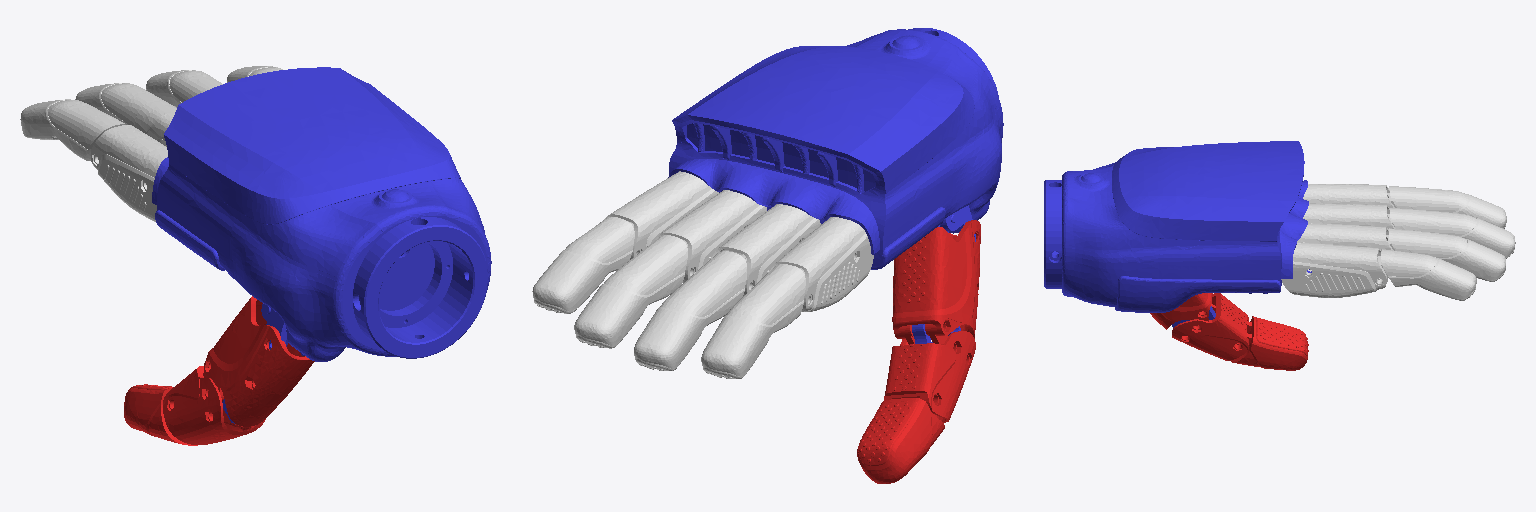
URDF robot description (inspire_hand_right):
<?xml version="1.0" ?>
<robot name="inspire_hand_right">
  <link name="base_link">
    <visual>
      <origin xyz="0.000000 0.000000 0.000000" rpy="0 0 0"/>
      <geometry>
        <mesh filename="package://inspire_hand_description/meshes/right/part_032.stl"/>
      </geometry>
      <material name="">
        <color rgba="0.3 0.3 0.9 1"/>
      </material>
    </visual>
    <visual>
      <origin xyz="0.000000 0.000000 0.000000" rpy="0 0 0"/>
      <geometry>
        <mesh filename="package://inspire_hand_description/meshes/right/part_050.stl"/>
      </geometry>
      <material name="">
        <color rgba="0.3 0.3 0.9 1"/>
      </material>
    </visual>
    <visual>
      <origin xyz="0.000000 0.000000 0.000000" rpy="0 0 0"/>
      <geometry>
        <mesh filename="package://inspire_hand_description/meshes/right/part_000.stl"/>
      </geometry>
      <material name="">
        <color rgba="0.3 0.3 0.9 1"/>
      </material>
    </visual>
    <visual>
      <origin xyz="0.000000 0.000000 0.000000" rpy="0 0 0"/>
      <geometry>
        <mesh filename="package://inspire_hand_description/meshes/right/part_002.stl"/>
      </geometry>
      <material name="">
        <color rgba="0.3 0.3 0.9 1"/>
      </material>
    </visual>
    <visual>
      <origin xyz="0.000000 0.000000 0.000000" rpy="0 0 0"/>
      <geometry>
        <mesh filename="package://inspire_hand_description/meshes/right/part_003.stl"/>
      </geometry>
      <material name="">
        <color rgba="0.3 0.3 0.9 1"/>
      </material>
    </visual>
    <visual>
      <origin xyz="0.000000 0.000000 0.000000" rpy="0 0 0"/>
      <geometry>
        <mesh filename="package://inspire_hand_description/meshes/right/part_005.stl"/>
      </geometry>
      <material name="">
        <color rgba="0.3 0.3 0.9 1"/>
      </material>
    </visual>
    <visual>
      <origin xyz="0.000000 0.000000 0.000000" rpy="0 0 0"/>
      <geometry>
        <mesh filename="package://inspire_hand_description/meshes/right/part_006.stl"/>
      </geometry>
      <material name="">
        <color rgba="0.3 0.3 0.9 1"/>
      </material>
    </visual>
    <visual>
      <origin xyz="0.000000 0.000000 0.000000" rpy="0 0 0"/>
      <geometry>
        <mesh filename="package://inspire_hand_description/meshes/right/part_008.stl"/>
      </geometry>
      <material name="">
        <color rgba="0.3 0.3 0.9 1"/>
      </material>
    </visual>
    <visual>
      <origin xyz="0.000000 0.000000 0.000000" rpy="0 0 0"/>
      <geometry>
        <mesh filename="package://inspire_hand_description/meshes/right/part_009.stl"/>
      </geometry>
      <material name="">
        <color rgba="0.3 0.3 0.9 1"/>
      </material>
    </visual>
    <visual>
      <origin xyz="0.000000 0.000000 0.000000" rpy="0 0 0"/>
      <geometry>
        <mesh filename="package://inspire_hand_description/meshes/right/part_011.stl"/>
      </geometry>
      <material name="">
        <color rgba="0.3 0.3 0.9 1"/>
      </material>
    </visual>
    <visual>
      <origin xyz="0.000000 0.000000 0.000000" rpy="0 0 0"/>
      <geometry>
        <mesh filename="package://inspire_hand_description/meshes/right/part_023.stl"/>
      </geometry>
      <material name="">
        <color rgba="0.3 0.3 0.9 1"/>
      </material>
    </visual>
    <visual>
      <origin xyz="0.000000 0.000000 0.000000" rpy="0 0 0"/>
      <geometry>
        <mesh filename="package://inspire_hand_description/meshes/right/part_024.stl"/>
      </geometry>
      <material name="">
        <color rgba="0.3 0.3 0.9 1"/>
      </material>
    </visual>
    <visual>
      <origin xyz="0.000000 0.000000 0.000000" rpy="0 0 0"/>
      <geometry>
        <mesh filename="package://inspire_hand_description/meshes/right/part_025.stl"/>
      </geometry>
      <material name="">
        <color rgba="0.3 0.3 0.9 1"/>
      </material>
    </visual>
    <visual>
      <origin xyz="0.000000 0.000000 0.000000" rpy="0 0 0"/>
      <geometry>
        <mesh filename="package://inspire_hand_description/meshes/right/part_026.stl"/>
      </geometry>
      <material name="">
        <color rgba="0.3 0.3 0.9 1"/>
      </material>
    </visual>
    <visual>
      <origin xyz="0.000000 0.000000 0.000000" rpy="0 0 0"/>
      <geometry>
        <mesh filename="package://inspire_hand_description/meshes/right/part_027.stl"/>
      </geometry>
      <material name="">
        <color rgba="0.3 0.3 0.9 1"/>
      </material>
    </visual>
    <visual>
      <origin xyz="0.000000 0.000000 0.000000" rpy="0 0 0"/>
      <geometry>
        <mesh filename="package://inspire_hand_description/meshes/right/part_028.stl"/>
      </geometry>
      <material name="">
        <color rgba="0.3 0.3 0.9 1"/>
      </material>
    </visual>
    <visual>
      <origin xyz="0.000000 0.000000 0.000000" rpy="0 0 0"/>
      <geometry>
        <mesh filename="package://inspire_hand_description/meshes/right/part_001.stl"/>
      </geometry>
      <material name="">
        <color rgba="0.3 0.3 0.9 1"/>
      </material>
    </visual>
    <visual>
      <origin xyz="0.000000 0.000000 0.000000" rpy="0 0 0"/>
      <geometry>
        <mesh filename="package://inspire_hand_description/meshes/right/part_004.stl"/>
      </geometry>
      <material name="">
        <color rgba="0.3 0.3 0.9 1"/>
      </material>
    </visual>
    <visual>
      <origin xyz="0.000000 0.000000 0.000000" rpy="0 0 0"/>
      <geometry>
        <mesh filename="package://inspire_hand_description/meshes/right/part_007.stl"/>
      </geometry>
      <material name="">
        <color rgba="0.3 0.3 0.9 1"/>
      </material>
    </visual>
    <visual>
      <origin xyz="0.000000 0.000000 0.000000" rpy="0 0 0"/>
      <geometry>
        <mesh filename="package://inspire_hand_description/meshes/right/part_010.stl"/>
      </geometry>
      <material name="">
        <color rgba="0.3 0.3 0.9 1"/>
      </material>
    </visual>
    <visual>
      <origin xyz="0.000000 0.000000 0.000000" rpy="0 0 0"/>
      <geometry>
        <mesh filename="package://inspire_hand_description/meshes/right/part_012.stl"/>
      </geometry>
      <material name="">
        <color rgba="0.3 0.3 0.9 1"/>
      </material>
    </visual>
    <visual>
      <origin xyz="0.000000 0.000000 0.000000" rpy="0 0 0"/>
      <geometry>
        <mesh filename="package://inspire_hand_description/meshes/right/part_013.stl"/>
      </geometry>
      <material name="">
        <color rgba="0.3 0.3 0.9 1"/>
      </material>
    </visual>
    <visual>
      <origin xyz="0.000000 0.000000 0.000000" rpy="0 0 0"/>
      <geometry>
        <mesh filename="package://inspire_hand_description/meshes/right/part_014.stl"/>
      </geometry>
      <material name="">
        <color rgba="0.3 0.3 0.9 1"/>
      </material>
    </visual>
    <visual>
      <origin xyz="0.000000 0.000000 0.000000" rpy="0 0 0"/>
      <geometry>
        <mesh filename="package://inspire_hand_description/meshes/right/part_015.stl"/>
      </geometry>
      <material name="">
        <color rgba="0.3 0.3 0.9 1"/>
      </material>
    </visual>
    <visual>
      <origin xyz="0.000000 0.000000 0.000000" rpy="0 0 0"/>
      <geometry>
        <mesh filename="package://inspire_hand_description/meshes/right/part_017.stl"/>
      </geometry>
      <material name="">
        <color rgba="0.3 0.3 0.9 1"/>
      </material>
    </visual>
    <visual>
      <origin xyz="0.000000 0.000000 0.000000" rpy="0 0 0"/>
      <geometry>
        <mesh filename="package://inspire_hand_description/meshes/right/part_016.stl"/>
      </geometry>
      <material name="">
        <color rgba="0.3 0.3 0.9 1"/>
      </material>
    </visual>
    <visual>
      <origin xyz="0.000000 0.000000 0.000000" rpy="0 0 0"/>
      <geometry>
        <mesh filename="package://inspire_hand_description/meshes/right/part_019.stl"/>
      </geometry>
      <material name="">
        <color rgba="0.3 0.3 0.9 1"/>
      </material>
    </visual>
    <visual>
      <origin xyz="0.000000 0.000000 0.000000" rpy="0 0 0"/>
      <geometry>
        <mesh filename="package://inspire_hand_description/meshes/right/part_020.stl"/>
      </geometry>
      <material name="">
        <color rgba="0.3 0.3 0.9 1"/>
      </material>
    </visual>
    <visual>
      <origin xyz="0.000000 0.000000 0.000000" rpy="0 0 0"/>
      <geometry>
        <mesh filename="package://inspire_hand_description/meshes/right/part_021.stl"/>
      </geometry>
      <material name="">
        <color rgba="0.3 0.3 0.9 1"/>
      </material>
    </visual>
    <visual>
      <origin xyz="0.000000 0.000000 0.000000" rpy="0 0 0"/>
      <geometry>
        <mesh filename="package://inspire_hand_description/meshes/right/part_018.stl"/>
      </geometry>
      <material name="">
        <color rgba="0.3 0.3 0.9 1"/>
      </material>
    </visual>
    <visual>
      <origin xyz="0.000000 0.000000 0.000000" rpy="0 0 0"/>
      <geometry>
        <mesh filename="package://inspire_hand_description/meshes/right/part_022.stl"/>
      </geometry>
      <material name="">
        <color rgba="0.3 0.3 0.9 1"/>
      </material>
    </visual>
    <visual>
      <origin xyz="0.000000 0.000000 0.000000" rpy="0 0 0"/>
      <geometry>
        <mesh filename="package://inspire_hand_description/meshes/right/part_041.stl"/>
      </geometry>
      <material name="">
        <color rgba="0.3 0.3 0.9 1"/>
      </material>
    </visual>
    <visual>
      <origin xyz="0.000000 0.000000 0.000000" rpy="0 0 0"/>
      <geometry>
        <mesh filename="package://inspire_hand_description/meshes/right/part_051.stl"/>
      </geometry>
      <material name="">
        <color rgba="0.3 0.3 0.9 1"/>
      </material>
    </visual>
    <visual>
      <origin xyz="0.000000 0.000000 0.000000" rpy="0 0 0"/>
      <geometry>
        <mesh filename="package://inspire_hand_description/meshes/right/part_052.stl"/>
      </geometry>
      <material name="">
        <color rgba="0.3 0.3 0.9 1"/>
      </material>
    </visual>
    <visual>
      <origin xyz="0.000000 0.000000 0.000000" rpy="0 0 0"/>
      <geometry>
        <mesh filename="package://inspire_hand_description/meshes/right/part_053.stl"/>
      </geometry>
      <material name="">
        <color rgba="0.3 0.3 0.9 1"/>
      </material>
    </visual>
    <visual>
      <origin xyz="0.000000 0.000000 0.000000" rpy="0 0 0"/>
      <geometry>
        <mesh filename="package://inspire_hand_description/meshes/right/part_033.stl"/>
      </geometry>
      <material name="">
        <color rgba="0.3 0.3 0.9 1"/>
      </material>
    </visual>
    <visual>
      <origin xyz="0.000000 0.000000 0.000000" rpy="0 0 0"/>
      <geometry>
        <mesh filename="package://inspire_hand_description/meshes/right/part_034.stl"/>
      </geometry>
      <material name="">
        <color rgba="0.3 0.3 0.9 1"/>
      </material>
    </visual>
    <visual>
      <origin xyz="0.000000 0.000000 0.000000" rpy="0 0 0"/>
      <geometry>
        <mesh filename="package://inspire_hand_description/meshes/right/part_035.stl"/>
      </geometry>
      <material name="">
        <color rgba="0.3 0.3 0.9 1"/>
      </material>
    </visual>
    <visual>
      <origin xyz="0.000000 0.000000 0.000000" rpy="0 0 0"/>
      <geometry>
        <mesh filename="package://inspire_hand_description/meshes/right/part_036.stl"/>
      </geometry>
      <material name="">
        <color rgba="0.3 0.3 0.9 1"/>
      </material>
    </visual>
    <collision>
      <origin xyz="0.000000 0.000000 0.000000" rpy="0 0 0"/>
      <geometry>
        <mesh filename="package://inspire_hand_description/meshes/right/part_032.stl"/>
      </geometry>
    </collision>
    <inertial>
      <mass value="0.05"/>
      <origin xyz="0 0 0" rpy="0 0 0"/>
      <inertia ixx="1e-06" ixy="0" ixz="0" iyy="1e-06" iyz="0" izz="1e-06"/>
    </inertial>
  </link>
  <link name="thumb_1_link">
    <visual>
      <origin xyz="0.041000 0.020000 -0.090000" rpy="0 0 0"/>
      <geometry>
        <mesh filename="package://inspire_hand_description/meshes/right/part_031.stl"/>
      </geometry>
      <material name="">
        <color rgba="0.9 0.2 0.2 1"/>
      </material>
    </visual>
    <collision>
      <origin xyz="0.041000 0.020000 -0.090000" rpy="0 0 0"/>
      <geometry>
        <mesh filename="package://inspire_hand_description/meshes/right/part_031.stl"/>
      </geometry>
    </collision>
    <inertial>
      <mass value="0.01"/>
      <origin xyz="0 0 0" rpy="0 0 0"/>
      <inertia ixx="1e-06" ixy="0" ixz="0" iyy="1e-06" iyz="0" izz="1e-06"/>
    </inertial>
  </link>
  <link name="thumb_2_link">
    <visual>
      <origin xyz="0.049000 0.004000 -0.046000" rpy="0 0 0"/>
      <geometry>
        <mesh filename="package://inspire_hand_description/meshes/right/part_030.stl"/>
      </geometry>
      <material name="">
        <color rgba="0.9 0.2 0.2 1"/>
      </material>
    </visual>
    <visual>
      <origin xyz="0.049000 0.004000 -0.046000" rpy="0 0 0"/>
      <geometry>
        <mesh filename="package://inspire_hand_description/meshes/right/part_029.stl"/>
      </geometry>
      <material name="">
        <color rgba="0.9 0.2 0.2 1"/>
      </material>
    </visual>
    <collision>
      <origin xyz="0.049000 0.004000 -0.046000" rpy="0 0 0"/>
      <geometry>
        <mesh filename="package://inspire_hand_description/meshes/right/part_030.stl"/>
      </geometry>
    </collision>
    <inertial>
      <mass value="0.01"/>
      <origin xyz="0 0 0" rpy="0 0 0"/>
      <inertia ixx="1e-06" ixy="0" ixz="0" iyy="1e-06" iyz="0" izz="1e-06"/>
    </inertial>
  </link>
  <link name="little_1_link">
    <visual>
      <origin xyz="0.040800 -0.037100 -0.109100" rpy="0 0 0"/>
      <geometry>
        <mesh filename="package://inspire_hand_description/meshes/right/part_038.stl"/>
      </geometry>
      <material name="">
        <color rgba="0.9 0.9 0.9 1"/>
      </material>
    </visual>
    <visual>
      <origin xyz="0.040800 -0.037100 -0.109100" rpy="0 0 0"/>
      <geometry>
        <mesh filename="package://inspire_hand_description/meshes/right/part_047.stl"/>
      </geometry>
      <material name="">
        <color rgba="0.9 0.9 0.9 1"/>
      </material>
    </visual>
    <collision>
      <origin xyz="0.040800 -0.037100 -0.109100" rpy="0 0 0"/>
      <geometry>
        <mesh filename="package://inspire_hand_description/meshes/right/part_038.stl"/>
      </geometry>
    </collision>
    <inertial>
      <mass value="0.01"/>
      <origin xyz="0 0 0" rpy="0 0 0"/>
      <inertia ixx="1e-06" ixy="0" ixz="0" iyy="1e-06" iyz="0" izz="1e-06"/>
    </inertial>
  </link>
  <link name="little_2_link">
    <visual>
      <origin xyz="0.042200 -0.075700 -0.108400" rpy="0 0 0"/>
      <geometry>
        <mesh filename="package://inspire_hand_description/meshes/right/part_042.stl"/>
      </geometry>
      <material name="">
        <color rgba="0.9 0.9 0.9 1"/>
      </material>
    </visual>
    <collision>
      <origin xyz="0.042200 -0.075700 -0.108400" rpy="0 0 0"/>
      <geometry>
        <mesh filename="package://inspire_hand_description/meshes/right/part_042.stl"/>
      </geometry>
    </collision>
    <inertial>
      <mass value="0.01"/>
      <origin xyz="0 0 0" rpy="0 0 0"/>
      <inertia ixx="1e-06" ixy="0" ixz="0" iyy="1e-06" iyz="0" izz="1e-06"/>
    </inertial>
  </link>
  <link name="ring_1_link">
    <visual>
      <origin xyz="0.018800 -0.037600 -0.109100" rpy="0 0 0"/>
      <geometry>
        <mesh filename="package://inspire_hand_description/meshes/right/part_040.stl"/>
      </geometry>
      <material name="">
        <color rgba="0.9 0.9 0.9 1"/>
      </material>
    </visual>
    <visual>
      <origin xyz="0.018800 -0.037600 -0.109100" rpy="0 0 0"/>
      <geometry>
        <mesh filename="package://inspire_hand_description/meshes/right/part_048.stl"/>
      </geometry>
      <material name="">
        <color rgba="0.9 0.9 0.9 1"/>
      </material>
    </visual>
    <collision>
      <origin xyz="0.018800 -0.037600 -0.109100" rpy="0 0 0"/>
      <geometry>
        <mesh filename="package://inspire_hand_description/meshes/right/part_040.stl"/>
      </geometry>
    </collision>
    <inertial>
      <mass value="0.01"/>
      <origin xyz="0 0 0" rpy="0 0 0"/>
      <inertia ixx="1e-06" ixy="0" ixz="0" iyy="1e-06" iyz="0" izz="1e-06"/>
    </inertial>
  </link>
  <link name="ring_2_link">
    <visual>
      <origin xyz="0.018800 -0.076000 -0.107700" rpy="0 0 0"/>
      <geometry>
        <mesh filename="package://inspire_hand_description/meshes/right/part_043.stl"/>
      </geometry>
      <material name="">
        <color rgba="0.9 0.9 0.9 1"/>
      </material>
    </visual>
    <collision>
      <origin xyz="0.018800 -0.076000 -0.107700" rpy="0 0 0"/>
      <geometry>
        <mesh filename="package://inspire_hand_description/meshes/right/part_043.stl"/>
      </geometry>
    </collision>
    <inertial>
      <mass value="0.01"/>
      <origin xyz="0 0 0" rpy="0 0 0"/>
      <inertia ixx="1e-06" ixy="0" ixz="0" iyy="1e-06" iyz="0" izz="1e-06"/>
    </inertial>
  </link>
  <link name="middle_1_link">
    <visual>
      <origin xyz="-0.003400 -0.036900 -0.109100" rpy="0 0 0"/>
      <geometry>
        <mesh filename="package://inspire_hand_description/meshes/right/part_037.stl"/>
      </geometry>
      <material name="">
        <color rgba="0.9 0.9 0.9 1"/>
      </material>
    </visual>
    <visual>
      <origin xyz="-0.003400 -0.036900 -0.109100" rpy="0 0 0"/>
      <geometry>
        <mesh filename="package://inspire_hand_description/meshes/right/part_049.stl"/>
      </geometry>
      <material name="">
        <color rgba="0.9 0.9 0.9 1"/>
      </material>
    </visual>
    <collision>
      <origin xyz="-0.003400 -0.036900 -0.109100" rpy="0 0 0"/>
      <geometry>
        <mesh filename="package://inspire_hand_description/meshes/right/part_037.stl"/>
      </geometry>
    </collision>
    <inertial>
      <mass value="0.01"/>
      <origin xyz="0 0 0" rpy="0 0 0"/>
      <inertia ixx="1e-06" ixy="0" ixz="0" iyy="1e-06" iyz="0" izz="1e-06"/>
    </inertial>
  </link>
  <link name="middle_2_link">
    <visual>
      <origin xyz="-0.005700 -0.075600 -0.108400" rpy="0 0 0"/>
      <geometry>
        <mesh filename="package://inspire_hand_description/meshes/right/part_045.stl"/>
      </geometry>
      <material name="">
        <color rgba="0.9 0.9 0.9 1"/>
      </material>
    </visual>
    <collision>
      <origin xyz="-0.005700 -0.075600 -0.108400" rpy="0 0 0"/>
      <geometry>
        <mesh filename="package://inspire_hand_description/meshes/right/part_045.stl"/>
      </geometry>
    </collision>
    <inertial>
      <mass value="0.01"/>
      <origin xyz="0 0 0" rpy="0 0 0"/>
      <inertia ixx="1e-06" ixy="0" ixz="0" iyy="1e-06" iyz="0" izz="1e-06"/>
    </inertial>
  </link>
  <link name="index_1_link">
    <visual>
      <origin xyz="-0.025200 -0.033200 -0.109100" rpy="0 0 0"/>
      <geometry>
        <mesh filename="package://inspire_hand_description/meshes/right/part_039.stl"/>
      </geometry>
      <material name="">
        <color rgba="0.9 0.9 0.9 1"/>
      </material>
    </visual>
    <visual>
      <origin xyz="-0.025200 -0.033200 -0.109100" rpy="0 0 0"/>
      <geometry>
        <mesh filename="package://inspire_hand_description/meshes/right/part_046.stl"/>
      </geometry>
      <material name="">
        <color rgba="0.9 0.9 0.9 1"/>
      </material>
    </visual>
    <collision>
      <origin xyz="-0.025200 -0.033200 -0.109100" rpy="0 0 0"/>
      <geometry>
        <mesh filename="package://inspire_hand_description/meshes/right/part_039.stl"/>
      </geometry>
    </collision>
    <inertial>
      <mass value="0.01"/>
      <origin xyz="0 0 0" rpy="0 0 0"/>
      <inertia ixx="1e-06" ixy="0" ixz="0" iyy="1e-06" iyz="0" izz="1e-06"/>
    </inertial>
  </link>
  <link name="index_2_link">
    <visual>
      <origin xyz="-0.029600 -0.072000 -0.109400" rpy="0 0 0"/>
      <geometry>
        <mesh filename="package://inspire_hand_description/meshes/right/part_044.stl"/>
      </geometry>
      <material name="">
        <color rgba="0.9 0.9 0.9 1"/>
      </material>
    </visual>
    <collision>
      <origin xyz="-0.029600 -0.072000 -0.109400" rpy="0 0 0"/>
      <geometry>
        <mesh filename="package://inspire_hand_description/meshes/right/part_044.stl"/>
      </geometry>
    </collision>
    <inertial>
      <mass value="0.01"/>
      <origin xyz="0 0 0" rpy="0 0 0"/>
      <inertia ixx="1e-06" ixy="0" ixz="0" iyy="1e-06" iyz="0" izz="1e-06"/>
    </inertial>
  </link>
  <joint name="thumb_1_joint" type="revolute">
    <origin xyz="-0.041 -0.02 0.09" rpy="0 0 0"/>
    <parent link="base_link"/>
    <child link="thumb_1_link"/>
    <axis xyz="0 0 -1"/>
    <limit lower="0" upper="1.246" effort="50" velocity="1"/>
  </joint>
  <joint name="thumb_2_joint" type="revolute">
    <origin xyz="-0.008 0.016 -0.044" rpy="0 0 0"/>
    <parent link="thumb_1_link"/>
    <child link="thumb_2_link"/>
    <axis xyz="0 1 0"/>
    <limit lower="0" upper="0.48" effort="50" velocity="1"/>
  </joint>
  <joint name="index_1_joint" type="revolute">
    <origin xyz="0.0252 0.0332 0.1091" rpy="0 0 0"/>
    <parent link="base_link"/>
    <child link="index_1_link"/>
    <axis xyz="-1 0 0"/>
    <limit lower="0" upper="1.333" effort="50" velocity="1"/>
  </joint>
  <joint name="index_2_joint" type="revolute">
    <origin xyz="0.0044 0.0388 0.0003" rpy="0 0 0"/>
    <parent link="index_1_link"/>
    <child link="index_2_link"/>
    <axis xyz="-1 0 0"/>
    <limit lower="0" upper="1.527" effort="50" velocity="1"/>
    <mimic joint="index_1_joint" multiplier="1.1169" offset="0"/>
  </joint>
  <joint name="middle_1_joint" type="revolute">
    <origin xyz="0.0034 0.0369 0.1091" rpy="0 0 0"/>
    <parent link="base_link"/>
    <child link="middle_1_link"/>
    <axis xyz="-1 0 0"/>
    <limit lower="0" upper="1.333" effort="50" velocity="1"/>
  </joint>
  <joint name="middle_2_joint" type="revolute">
    <origin xyz="0.0023 0.0387 -0.0007" rpy="0 0 0"/>
    <parent link="middle_1_link"/>
    <child link="middle_2_link"/>
    <axis xyz="-1 0 0"/>
    <limit lower="0" upper="1.527" effort="50" velocity="1"/>
    <mimic joint="middle_1_joint" multiplier="1.1169" offset="0"/>
  </joint>
  <joint name="ring_1_joint" type="revolute">
    <origin xyz="-0.0188 0.0376 0.1091" rpy="0 0 0"/>
    <parent link="base_link"/>
    <child link="ring_1_link"/>
    <axis xyz="-1 0 0"/>
    <limit lower="0" upper="1.333" effort="50" velocity="1"/>
  </joint>
  <joint name="ring_2_joint" type="revolute">
    <origin xyz="0.0 0.0384 -0.0014" rpy="0 0 0"/>
    <parent link="ring_1_link"/>
    <child link="ring_2_link"/>
    <axis xyz="-1 0 0"/>
    <limit lower="0" upper="1.527" effort="50" velocity="1"/>
    <mimic joint="ring_1_joint" multiplier="1.1169" offset="0"/>
  </joint>
  <joint name="little_1_joint" type="revolute">
    <origin xyz="-0.0408 0.0371 0.1091" rpy="0 0 0"/>
    <parent link="base_link"/>
    <child link="little_1_link"/>
    <axis xyz="-1 0 0"/>
    <limit lower="0" upper="1.333" effort="50" velocity="1"/>
  </joint>
  <joint name="little_2_joint" type="revolute">
    <origin xyz="-0.0014 0.0386 -0.0007" rpy="0 0 0"/>
    <parent link="little_1_link"/>
    <child link="little_2_link"/>
    <axis xyz="-1 0 0"/>
    <limit lower="0" upper="1.527" effort="50" velocity="1"/>
    <mimic joint="little_1_joint" multiplier="1.1169" offset="0"/>
  </joint>
</robot>

--- Facts derived from the render (not from the file) ---
3 views of the same robot in one strip: view 1: azimuth 30°, elevation 25°; view 2: azimuth 150°, elevation 25°; view 3: azimuth 270°, elevation 25° (orthographic).
Robot: inspire_hand_right — 11 links, 10 joints (10 revolute); root link base_link; default pose: all joints at 0.
Links seen in each view (by area): view 1: base_link, thumb_1_link, thumb_2_link, little_1_link, little_2_link, ring_2_link, middle_2_link; view 2: base_link, thumb_2_link, thumb_1_link, ring_2_link, middle_2_link, little_2_link, index_2_link, little_1_link, middle_1_link, ring_1_link, index_1_link; view 3: base_link, thumb_2_link, index_1_link, middle_2_link, index_2_link, ring_2_link, little_2_link, middle_1_link, ring_1_link, little_1_link, thumb_1_link.
Boxes of the visible links, x1,y1,x2,y2 form: base_link: (152, 67, 491, 423); thumb_1_link: (204, 296, 314, 426); thumb_2_link: (124, 366, 265, 445); little_1_link: (91, 125, 167, 221); little_2_link: (20, 99, 125, 160); ring_2_link: (75, 83, 176, 133); middle_2_link: (146, 70, 222, 107); base_link: (668, 28, 1003, 343); thumb_2_link: (857, 331, 975, 483); thumb_1_link: (892, 220, 980, 344); ring_2_link: (634, 251, 746, 370); middle_2_link: (574, 235, 687, 348); little_2_link: (701, 264, 805, 378); index_2_link: (532, 217, 634, 313); little_1_link: (769, 217, 873, 311); middle_1_link: (655, 190, 766, 282); ring_1_link: (711, 204, 820, 295); index_1_link: (604, 171, 718, 259); base_link: (1044, 141, 1311, 327); thumb_2_link: (1172, 293, 1308, 370); index_1_link: (1281, 242, 1386, 297); middle_2_link: (1386, 228, 1505, 281); index_2_link: (1377, 249, 1476, 300); ring_2_link: (1387, 208, 1515, 258); little_2_link: (1387, 186, 1506, 228); middle_1_link: (1297, 223, 1393, 250); ring_1_link: (1303, 203, 1395, 228); little_1_link: (1303, 184, 1394, 207); thumb_1_link: (1150, 293, 1212, 329).
Bounding box of the posed robot: 0.1029 × 0.2164 × 0.1239 m (x, y, z).
Meshes: 54 distinct files referenced, 54 mesh visuals loaded (54 binary STL).